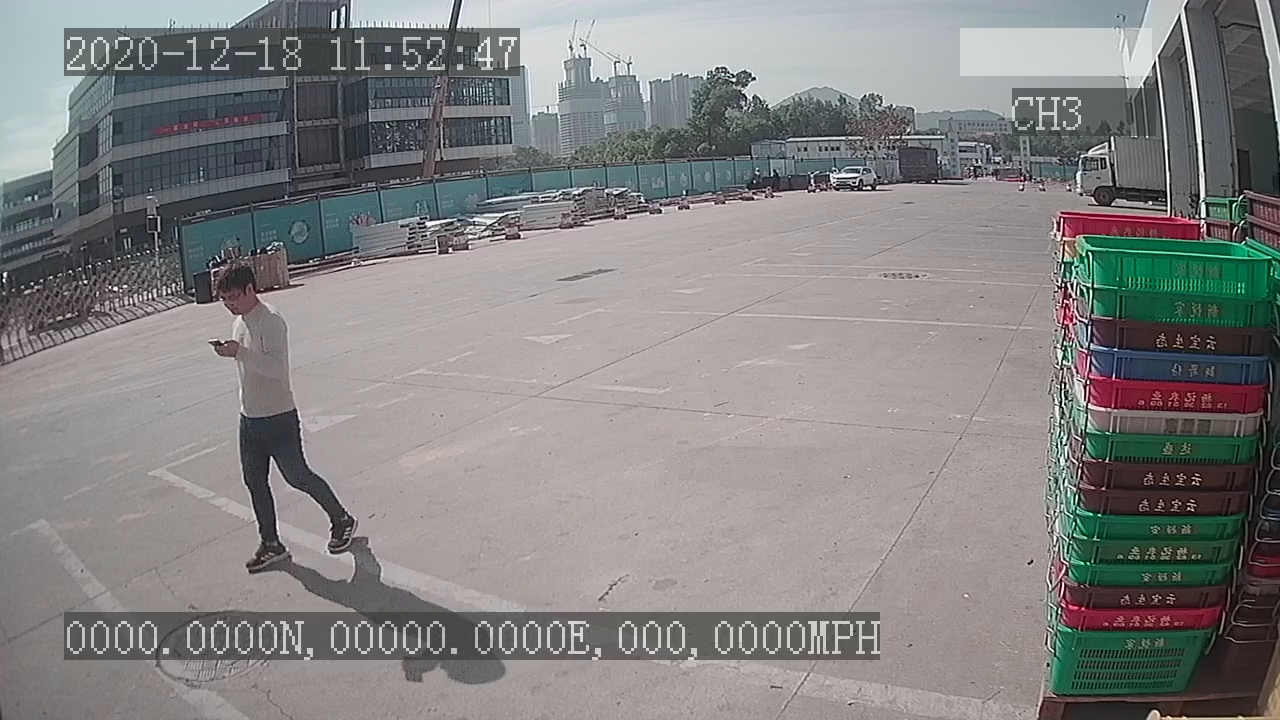person: (201, 247, 363, 572)
